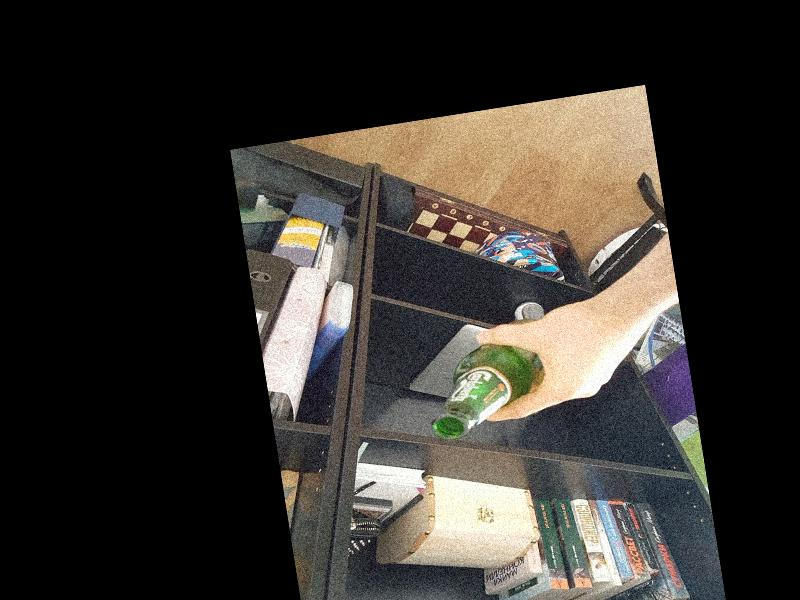Beer: (416, 315, 559, 441)
